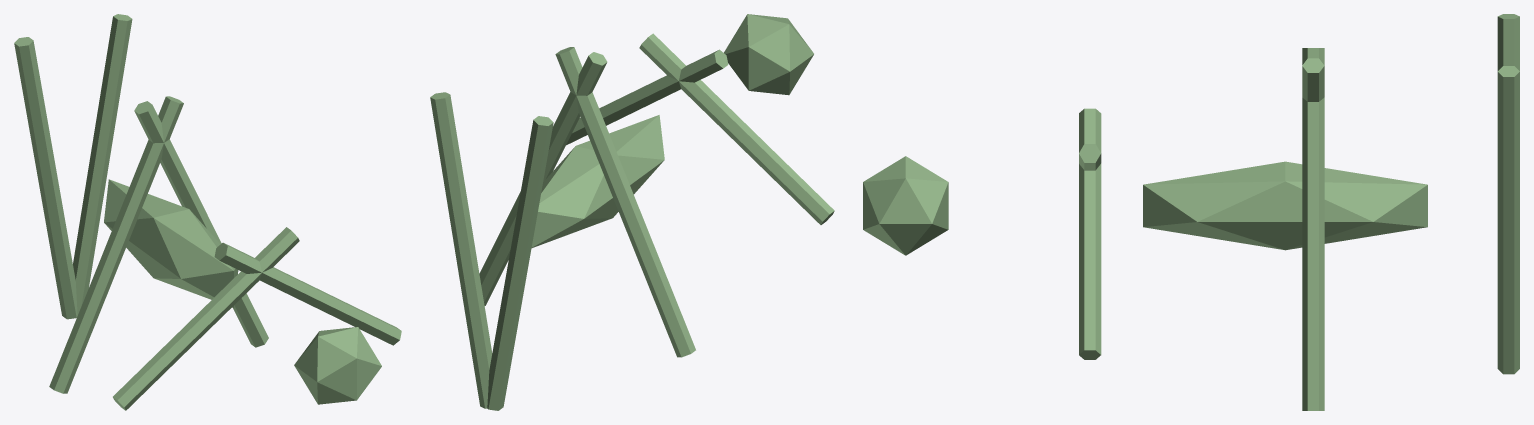
File: praying_mantis.glb
The picture shows the model from 3 angles, left to right: view 1: azimuth 30°, elevation 25°; view 2: azimuth 150°, elevation 25°; view 3: azimuth 270°, elevation 25°; orthographic projection. The views are drawn at different scales.
Parts seen in each view (by area): view 1: world; view 2: world; view 3: world.
Boxes of the visible parts, bbox=[...] form: world: bbox=[14, 14, 401, 410]; world: bbox=[430, 14, 834, 410]; world: bbox=[863, 14, 1519, 410].
Size of the model in its own units: 0.6694 by 0.6461 by 1.18.
